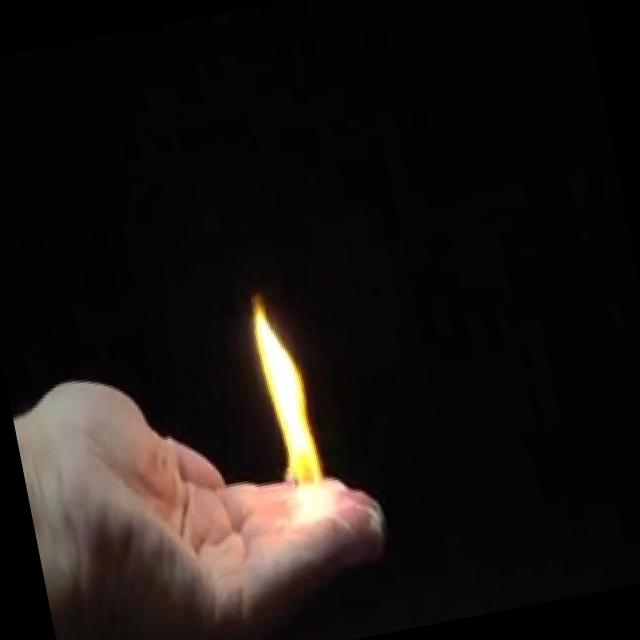Fire: (238, 277, 348, 539)
